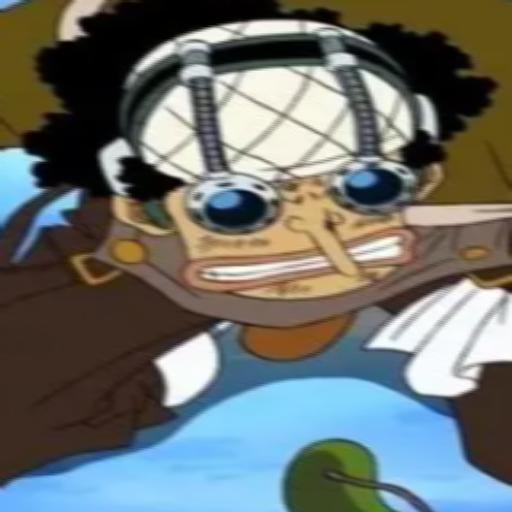Usopp: (11, 3, 512, 487)
